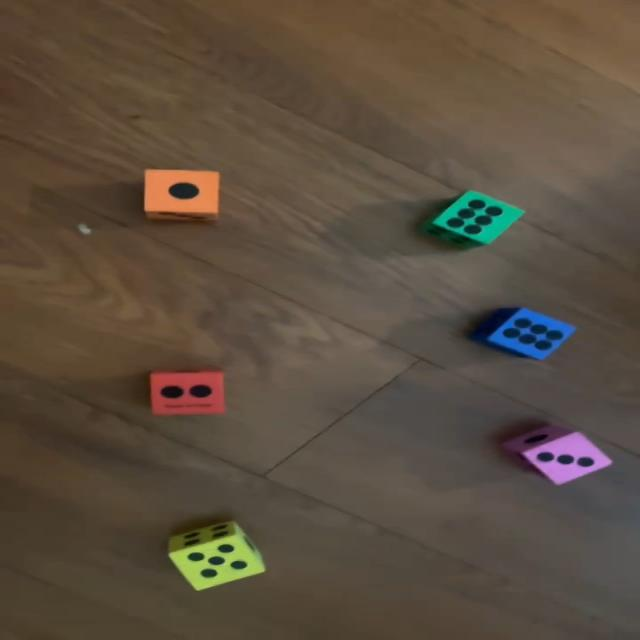blue_block: (466, 309, 580, 359)
red_block: (150, 366, 228, 415)
